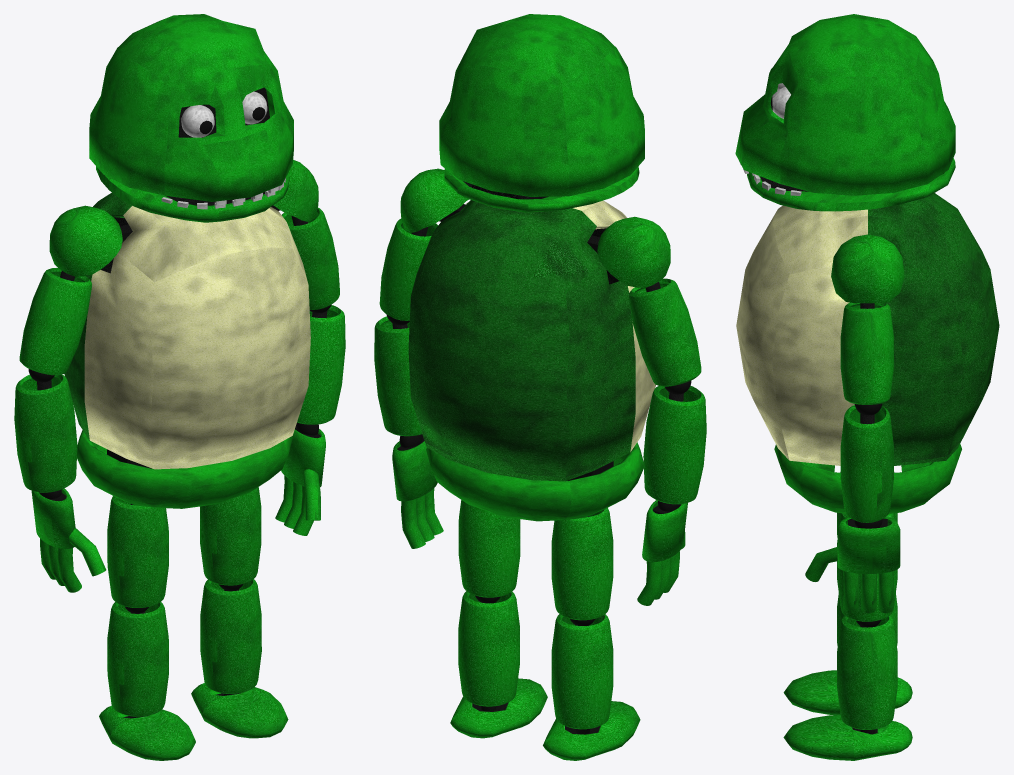
Rendered from MikeyModel.fbx.
3 views of the same model, side by side, from view 1: azimuth 30°, elevation 25°; view 2: azimuth 150°, elevation 25°; view 3: azimuth 270°, elevation 25° (orthographic).
Visible parts, largest first — view 1: Body.001, Head.002, Shoulder.002, Sphere.004, Sphere.001, Sphere.009, Sphere.005, Sphere.008, Head.010, Head.011; view 2: Body.001, Head.002, Shoulder.002, Sphere.004, Sphere.001, Sphere.005, Sphere.008, Sphere.009; view 3: Body.001, Head.002, Sphere.001, Sphere.008, Sphere.005.
Part boxes in pixels (x1,y1,x2,y2): Body.001: [64, 192, 310, 760]; Head.002: [89, 14, 293, 222]; Shoulder.002: [19, 205, 122, 375]; Sphere.004: [14, 369, 77, 492]; Sphere.001: [273, 160, 339, 309]; Sphere.009: [31, 488, 106, 592]; Sphere.005: [297, 304, 345, 424]; Sphere.008: [275, 422, 325, 535]; Head.010: [181, 105, 214, 137]; Head.011: [242, 91, 267, 124]; Body.001: [408, 200, 655, 760]; Head.002: [439, 14, 644, 212]; Shoulder.002: [597, 216, 701, 386]; Sphere.004: [643, 380, 706, 504]; Sphere.001: [379, 168, 468, 320]; Sphere.005: [374, 314, 422, 436]; Sphere.008: [392, 434, 443, 548]; Sphere.009: [637, 500, 687, 605]; Body.001: [736, 193, 999, 760]; Head.002: [735, 14, 955, 211]; Sphere.001: [831, 234, 904, 404]; Sphere.008: [805, 517, 900, 613]; Sphere.005: [840, 403, 893, 522].
Bounding box in the file's own units: 344 × 717 × 243.
